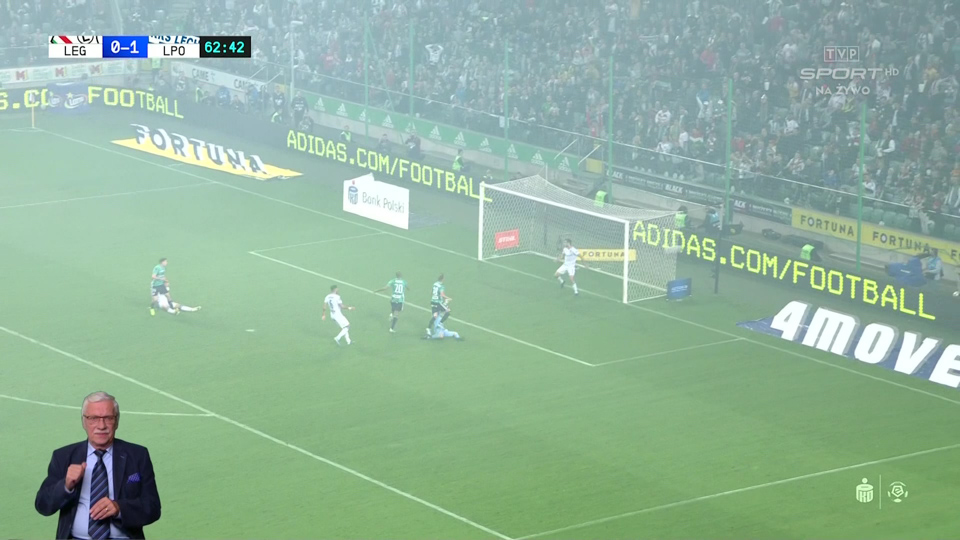Adidas: (452, 131, 468, 146), (478, 135, 492, 152), (311, 97, 326, 111), (335, 102, 349, 116)
